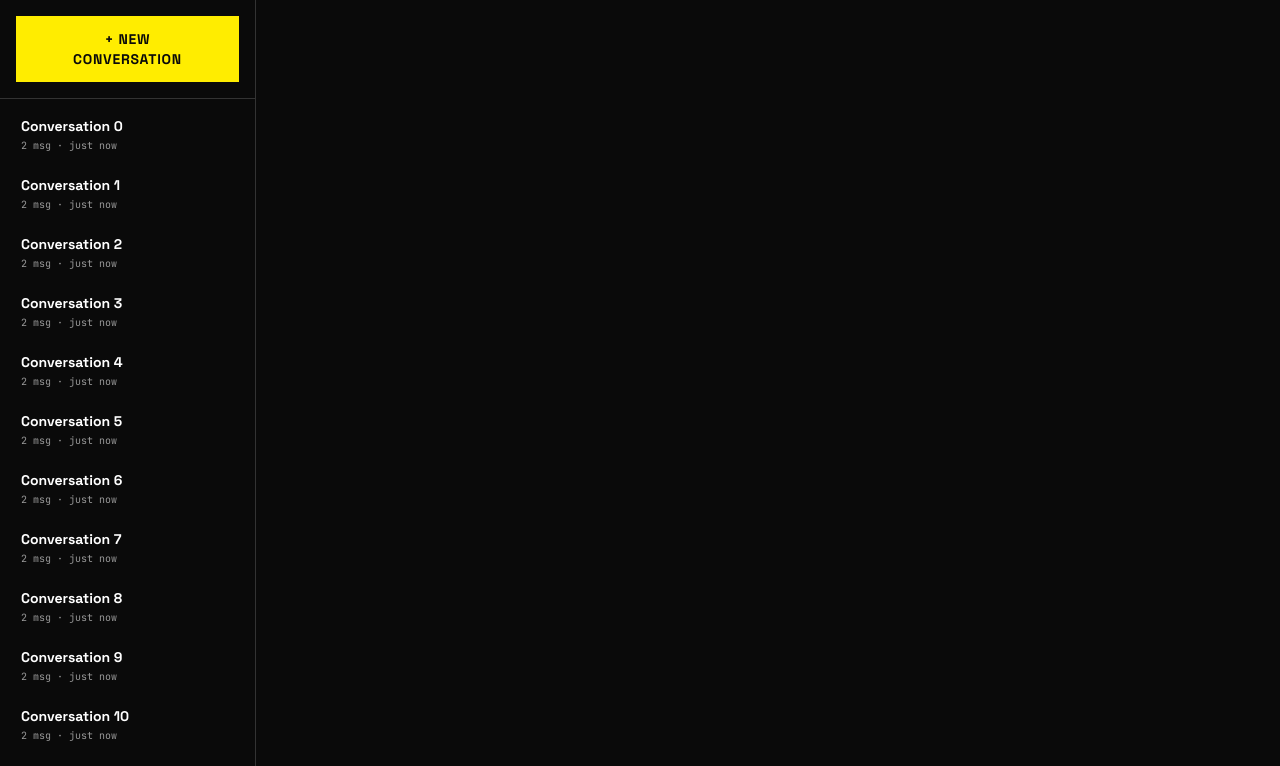
Test: C2: Intelligence and hardening › Copy to clipboard › shows a copy button on assistant messages
Click the text "Conversation 0" at coordinates (72, 126), box [21,117,123,135]
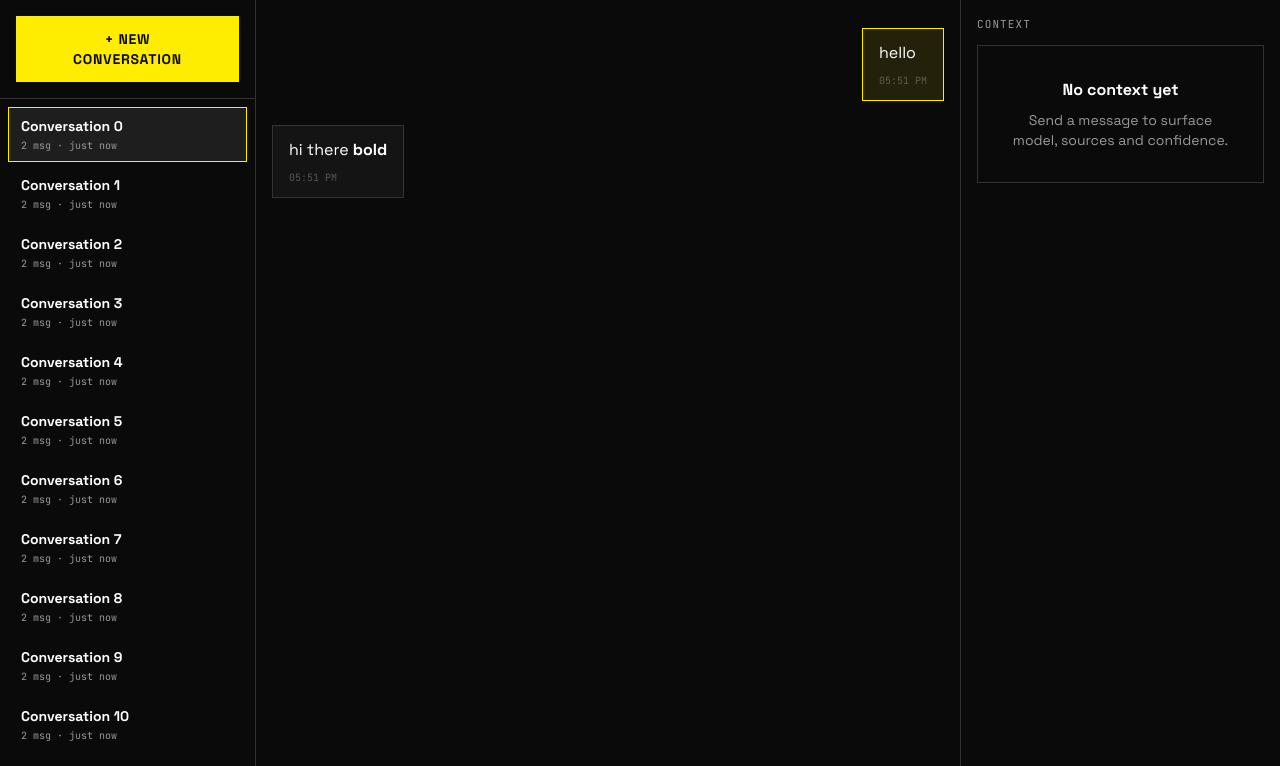
Expected: the text "hi there" is shown, [289,139,353,160]
